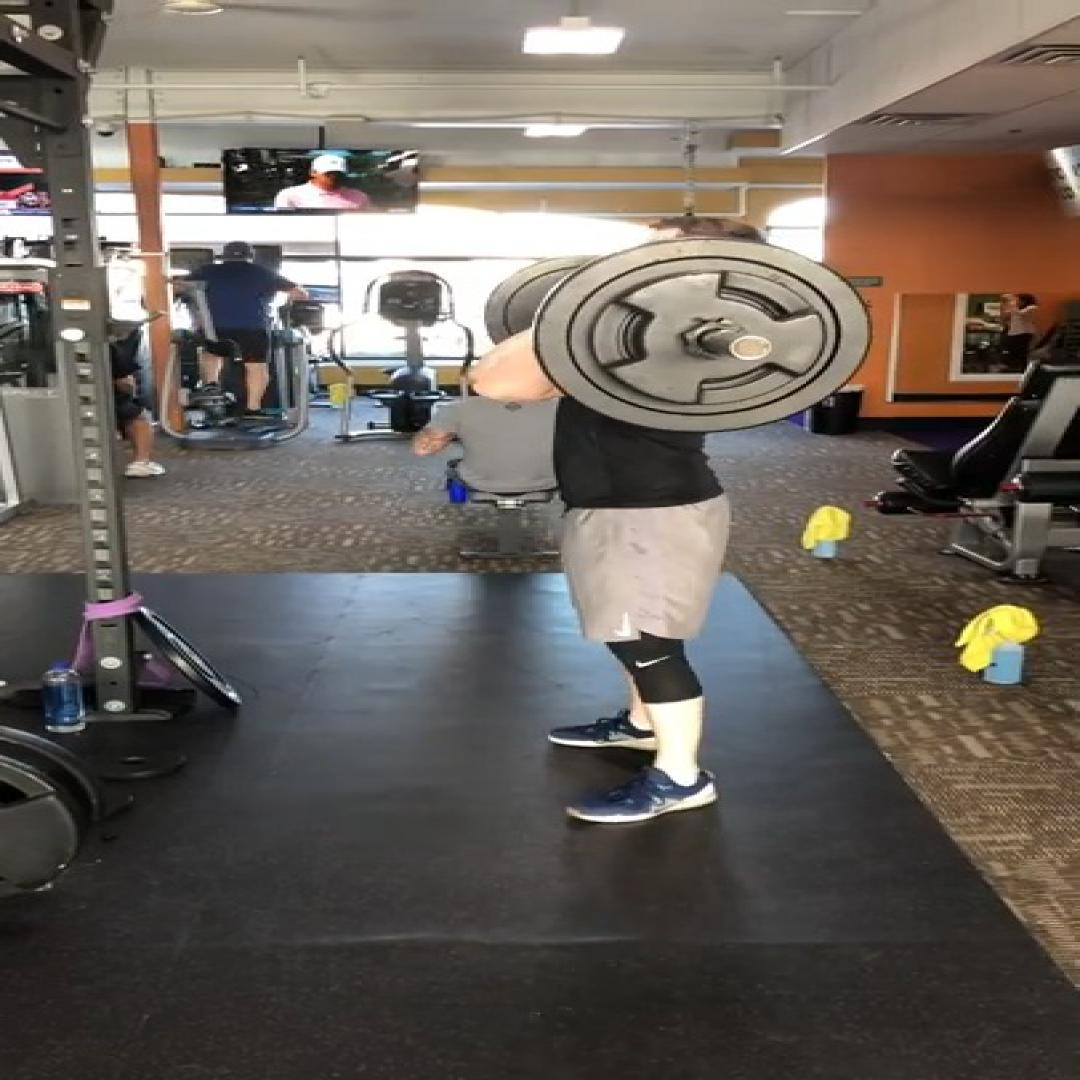Bar: (729, 336, 771, 360)
Barbell: (535, 240, 870, 432)
